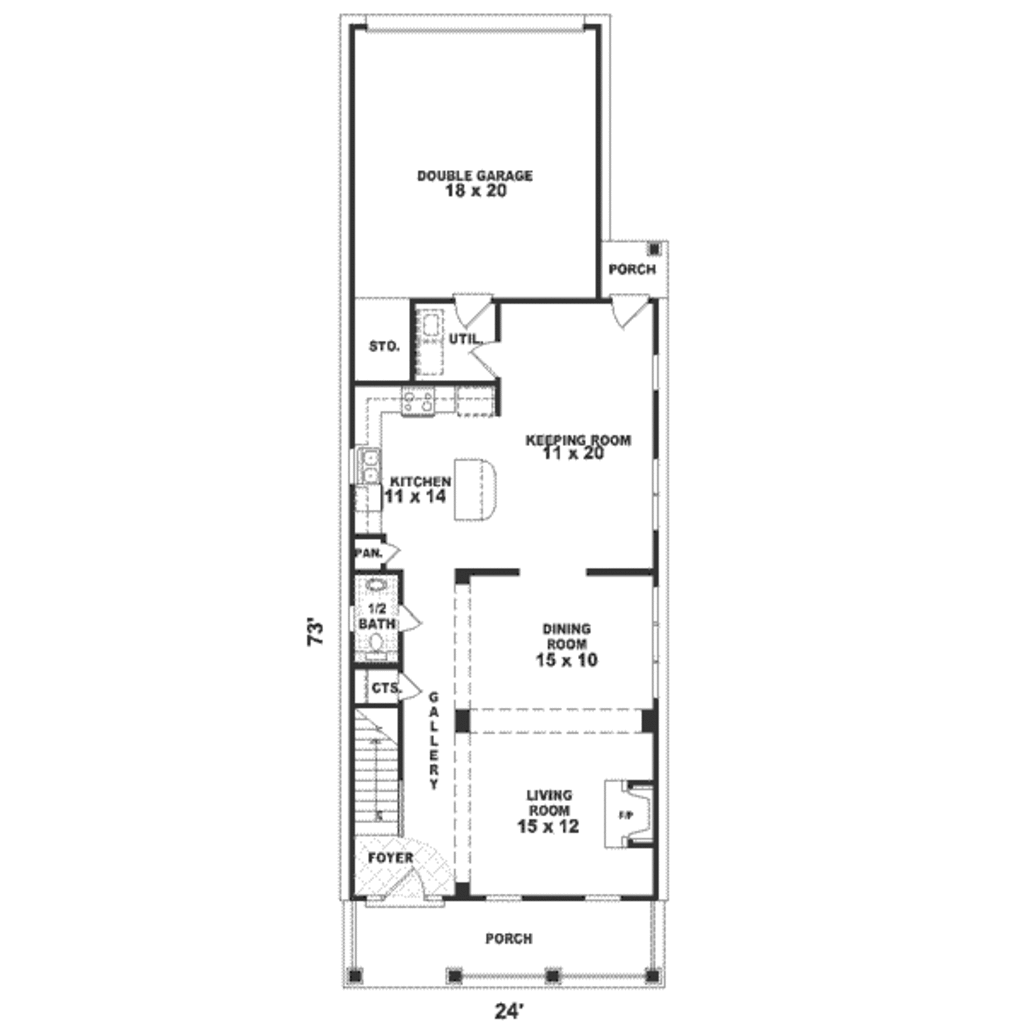door: (463, 337, 504, 378), (608, 291, 651, 328), (377, 868, 426, 900), (391, 603, 426, 637), (458, 291, 491, 324)
kitchen_bar: (450, 454, 501, 526)
large_sink: (353, 630, 399, 662)
stairs: (348, 700, 409, 842)
twin_sink: (347, 442, 381, 482)
windows: (650, 580, 663, 701), (651, 454, 664, 530), (650, 348, 662, 389)
